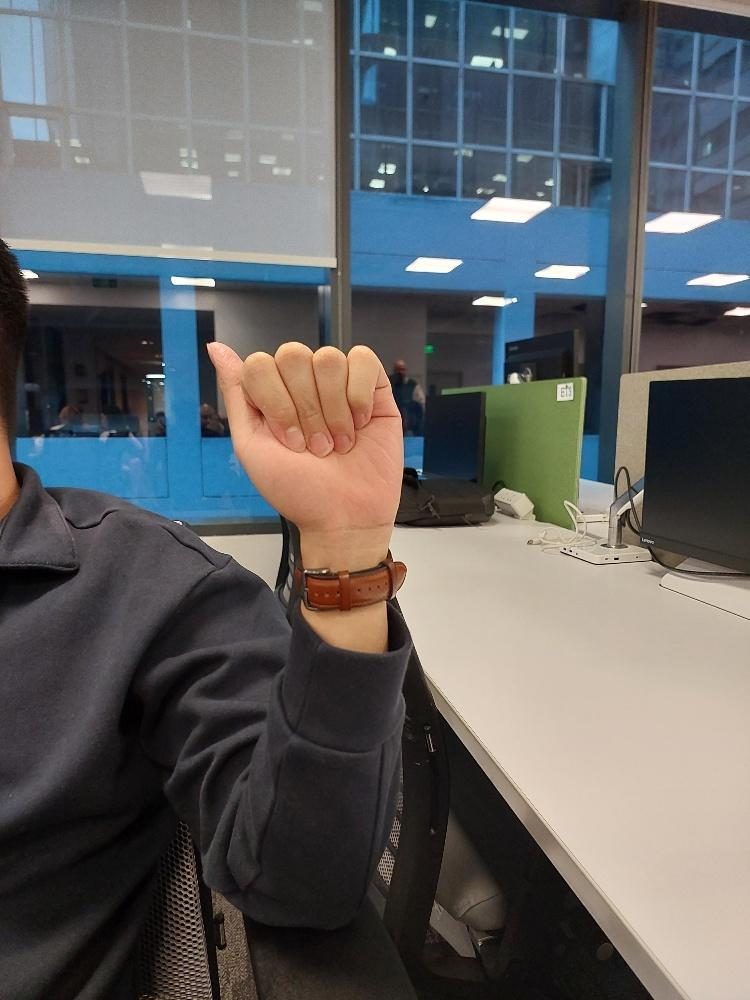a: (204, 337, 404, 518)
